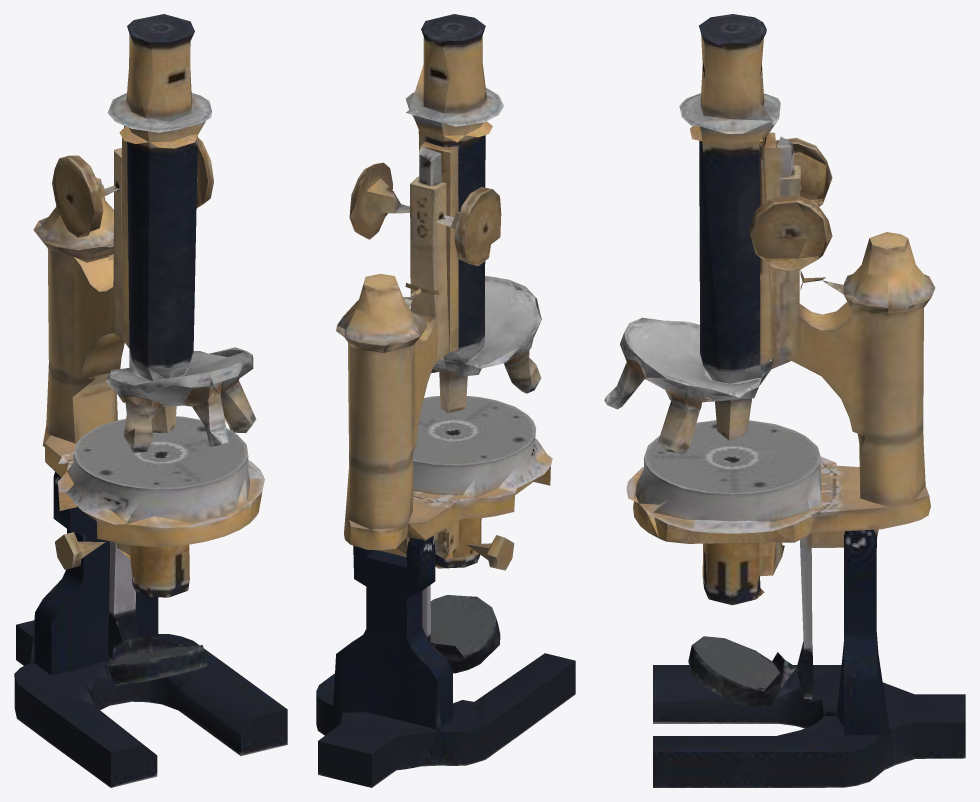
The model's file is microscope_old.glb.
3 views of the same model, side by side, from view 1: azimuth 30°, elevation 25°; view 2: azimuth 150°, elevation 25°; view 3: azimuth 270°, elevation 25° (orthographic). The views are drawn at different scales.
Parts seen in each view (by area): view 1: mesh; view 2: mesh; view 3: mesh.
Boxes of the visible parts, bbox=[...] form: mesh: bbox=[14, 14, 287, 787]; mesh: bbox=[316, 14, 575, 787]; mesh: bbox=[604, 14, 965, 787].
Bounding box in the file's own units: 0.1064 × 0.4 × 0.1826.
Materials: 1 (1 with a texture image).
